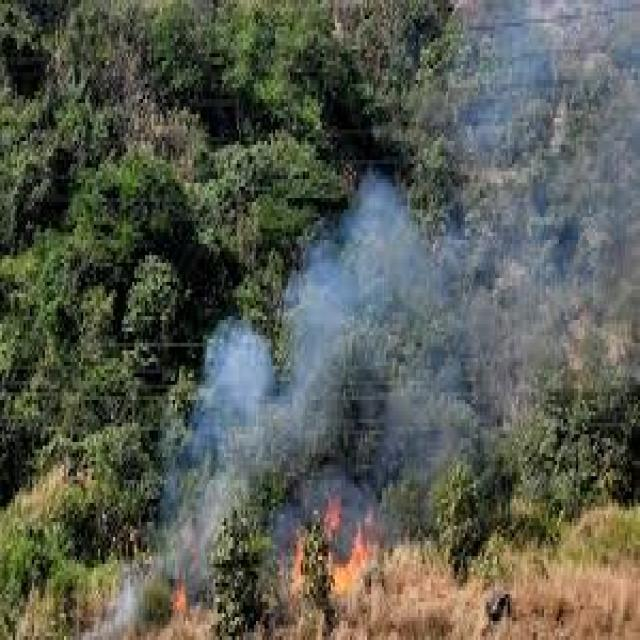Smoke: (203, 336, 270, 484), (352, 189, 421, 317), (306, 252, 356, 412)
